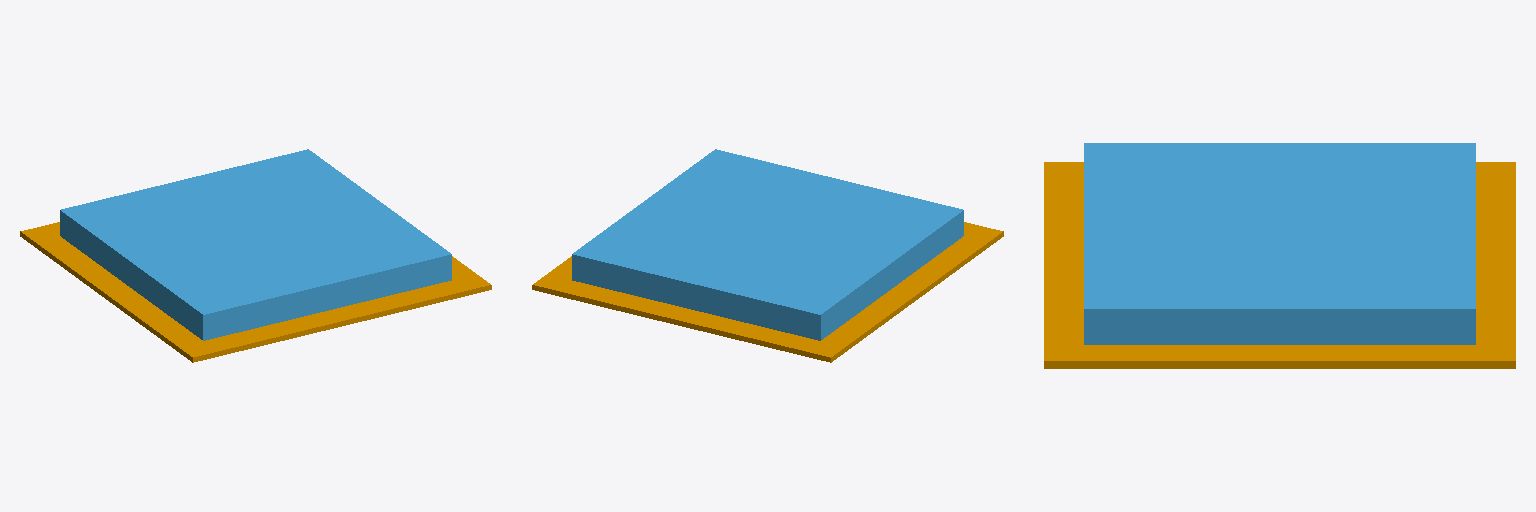
The robot description file, URDF, robot "load_cell_robot":
<?xml version="1.0"?>
<robot name="load_cell_robot">
  <!-- Base Link -->
  <link name="sensor_base_link">
    <visual>
      <geometry>
        <box size="0.06 0.06 0.001"/> <!-- Reduced height to 1mm -->
      </geometry>
      <material name="gray"/>
    </visual>
    <collision>
      <geometry>
        <box size="0.06 0.06 0.001"/> <!-- Reduced height to 1mm -->
      </geometry>
    </collision>
  </link>

  <!-- Load Cell Link -->
  <link name="load_cell">
    <visual>
      <geometry>
        <box size="0.05 0.05 0.005"/> <!-- Small box for load cell -->
      </geometry>
      <material name="blue"/>
    </visual>
    <collision>
      <geometry>
        <box size="0.05 0.05 0.005"/> <!-- Small box for load cell -->
      </geometry>
    </collision>
  </link>

  <!-- Joint Definition -->
  <joint name="load_cell_joint" type="fixed">
    <parent link="sensor_base_link"/>
    <child link="load_cell"/>
    <origin xyz="0 0 0.003" rpy="0 0 0"/> <!-- Slight offset to avoid collision overlap -->
  </joint>

  <gazebo reference="load_cell_joint">
    <provideFeedback>true</provideFeedback>
  </gazebo>

  <!-- Gazebo Plugins -->
  <gazebo>
    <plugin name="ft_sensor" filename="libgazebo_ros_ft_sensor.so">
      <updateRate>50.0</updateRate>
      <topicName>load_cell_sensor</topicName>
      <jointName>load_cell_joint</jointName> <!-- Correct joint name -->
    </plugin>
  </gazebo>
</robot>

--- What the picture shows (computed from the rendered views, not written in the file) ---
The picture shows the robot from 3 angles, left to right: view 1: azimuth 30°, elevation 25°; view 2: azimuth 150°, elevation 25°; view 3: azimuth 270°, elevation 25°; orthographic projection.
Robot: load_cell_robot — 2 links, 1 joints (1 fixed); root link sensor_base_link; default pose: every joint at zero.
Links seen in each view (by area): view 1: load_cell, sensor_base_link; view 2: load_cell, sensor_base_link; view 3: load_cell, sensor_base_link.
Boxes of the visible links, x1,y1,x2,y2 form: load_cell: (60, 149, 451, 340); sensor_base_link: (20, 222, 491, 362); load_cell: (572, 149, 963, 340); sensor_base_link: (532, 222, 1003, 362); load_cell: (1084, 143, 1475, 344); sensor_base_link: (1044, 162, 1515, 368).
Size in the robot's own frame: 0.06 by 0.06 by 0.006 metres.
Geometry: primitives only (box / cylinder / sphere), no mesh files.
